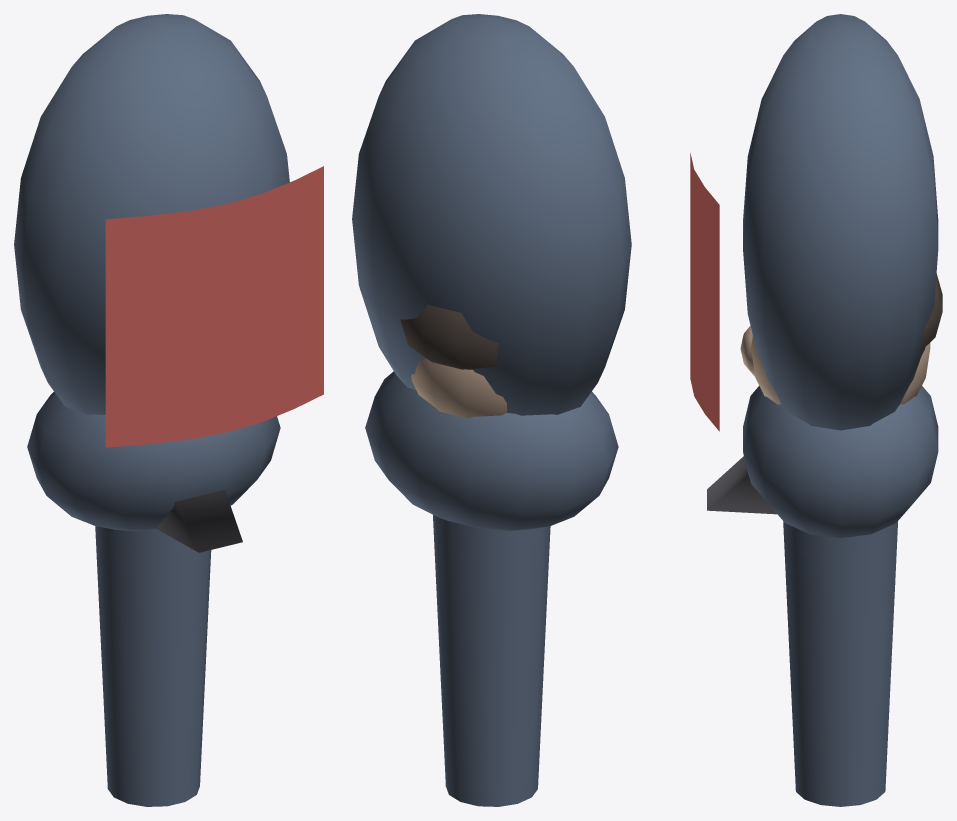
Rendered from enemy_guard.glb.
3 renders of one model, left to right at view 1: azimuth 30°, elevation 25°; view 2: azimuth 150°, elevation 25°; view 3: azimuth 270°, elevation 25°, orthographic.
Parts seen in each view (by area): view 1: torso, torso_vest, thigh_l, hips, boot_l; view 2: torso, thigh_l, hips, head_hair, head; view 3: torso, thigh_l, hips, torso_vest, boot_l, head, head_hair.
Boxes of the visible parts, bbox=[...] form: torso: bbox=[14, 14, 289, 414]; torso_vest: bbox=[105, 166, 323, 447]; thigh_l: bbox=[95, 526, 211, 806]; hips: bbox=[27, 392, 280, 531]; boot_l: bbox=[155, 490, 242, 552]; torso: bbox=[352, 14, 631, 415]; thigh_l: bbox=[433, 515, 550, 806]; hips: bbox=[365, 371, 618, 531]; head_hair: bbox=[400, 304, 498, 369]; head: bbox=[411, 358, 506, 418]; torso: bbox=[743, 14, 938, 430]; thigh_l: bbox=[783, 521, 897, 806]; hips: bbox=[743, 386, 938, 538]; torso_vest: bbox=[690, 153, 719, 431]; boot_l: bbox=[707, 456, 776, 514]; head: bbox=[740, 325, 930, 404]; head_hair: bbox=[920, 274, 942, 349].
Bounding box in the file's own units: 0.36 × 1.01 × 0.3021.
